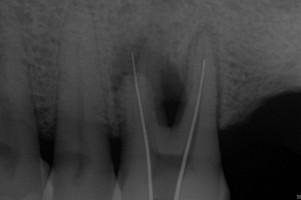Dental Caries: (109, 18, 222, 129)
